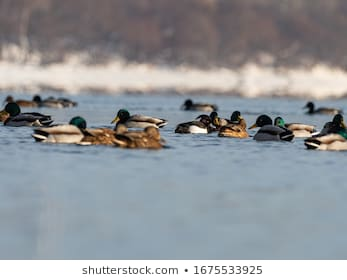duck: (28, 112, 97, 154), (245, 112, 299, 146)
